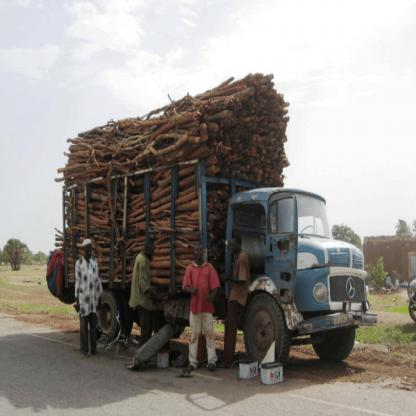overloaded-truck: (33, 75, 384, 411)
